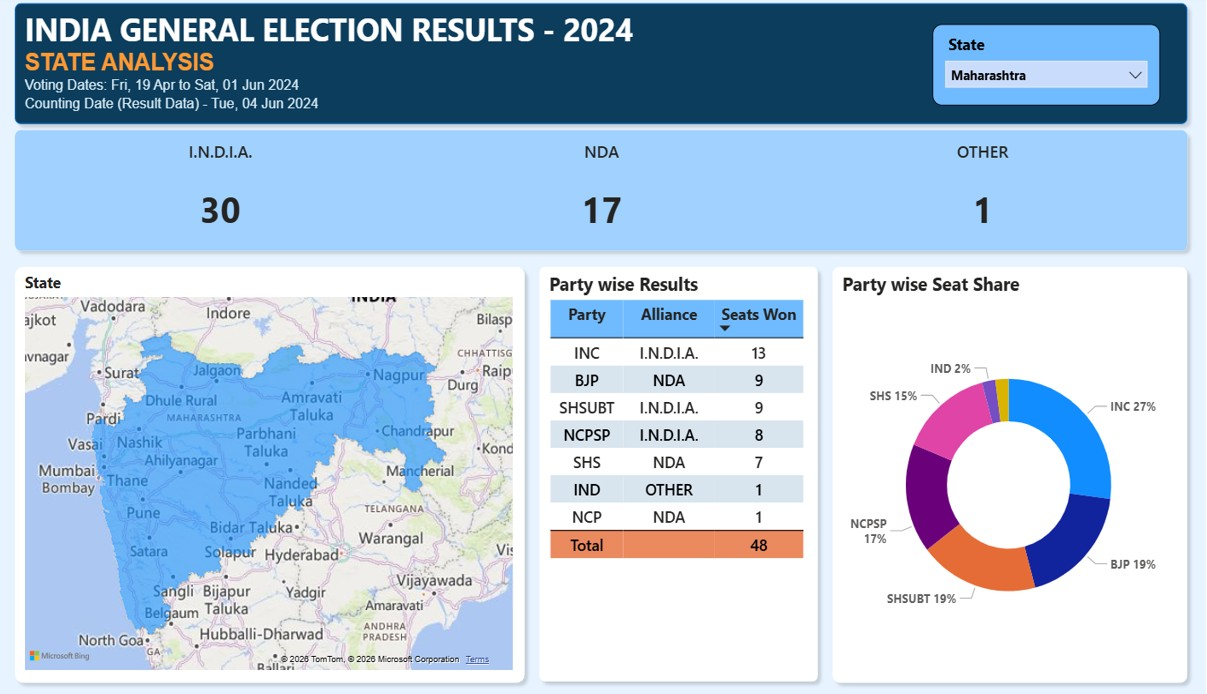

This screenshot's page, from the dashboard's own definition file:
{"tool":"powerbi","page":{"name":"State Analysis","canvas":[1280,720],"ordinal":1},"visuals":[{"type":"shape","box":[9.8,0,1255.8,139.4],"z":0},{"type":"textbox","box":[23.7,7.9,764.2,120.6],"z":1000},{"type":"shape","box":[9.8,129.6,1255.8,139.4],"z":2000},{"type":"cardVisual","fields":{"Data":["CountNonNull(constituencywise_results.Constituency Name)"],"Rows":["constituencywise_results.Party Alliance (Results)"]},"box":[9.8,139.4,1255.8,118.6],"z":3000},{"type":"slicer","fields":{"Values":["states.State"]},"box":[988,29.3,240.9,83.2],"z":4000},{"type":"shape","box":[9.8,269,555.2,441.4],"z":5000},{"type":"filledMap","title":"State","fields":{"Category":["states.State"]},"box":[23.2,281.3,525.8,413.3],"z":6000},{"type":"shape","box":[564.9,269,310.6,440.2],"z":7000},{"type":"tableEx","title":"Party wise Results","fields":{"Values":["constituencywise_results.Party Short Name","constituencywise_results.Party Alliance (Results)","CountNonNull(constituencywise_results.Constituency Name)"]},"box":[578.4,281.3,283.7,380.3],"z":8000},{"type":"shape","box":[874.3,269,391.3,441.4],"z":9000},{"type":"donutChart","title":"Party wise Seat Share","fields":{"Category":["constituencywise_results.Party Short Name"],"Y":["CountNonNull(constituencywise_results.Constituency Name)"]},"box":[887.8,281.3,362,413.3],"z":10000}]}

Visuals, with their boxes in screenshot pixels (x1, y1, x2, y2), scaled from the page's 1280x720 canvas onto the 1207x694 screenshot:
shape: x1=9, y1=0, x2=1193, y2=134
textbox: x1=22, y1=8, x2=743, y2=124
shape: x1=9, y1=125, x2=1193, y2=259
cardVisual - CountNonNull(constituencywise_results.Constituency Name) x constituencywise_results.Party Alliance (Results): x1=9, y1=134, x2=1193, y2=249
slicer - states.State: x1=932, y1=28, x2=1159, y2=108
shape: x1=9, y1=259, x2=533, y2=685
"State" filledMap: x1=22, y1=271, x2=518, y2=670
shape: x1=533, y1=259, x2=826, y2=684
"Party wise Results" tableEx: x1=545, y1=271, x2=813, y2=638
shape: x1=824, y1=259, x2=1193, y2=685
"Party wise Seat Share" donutChart: x1=837, y1=271, x2=1179, y2=670
